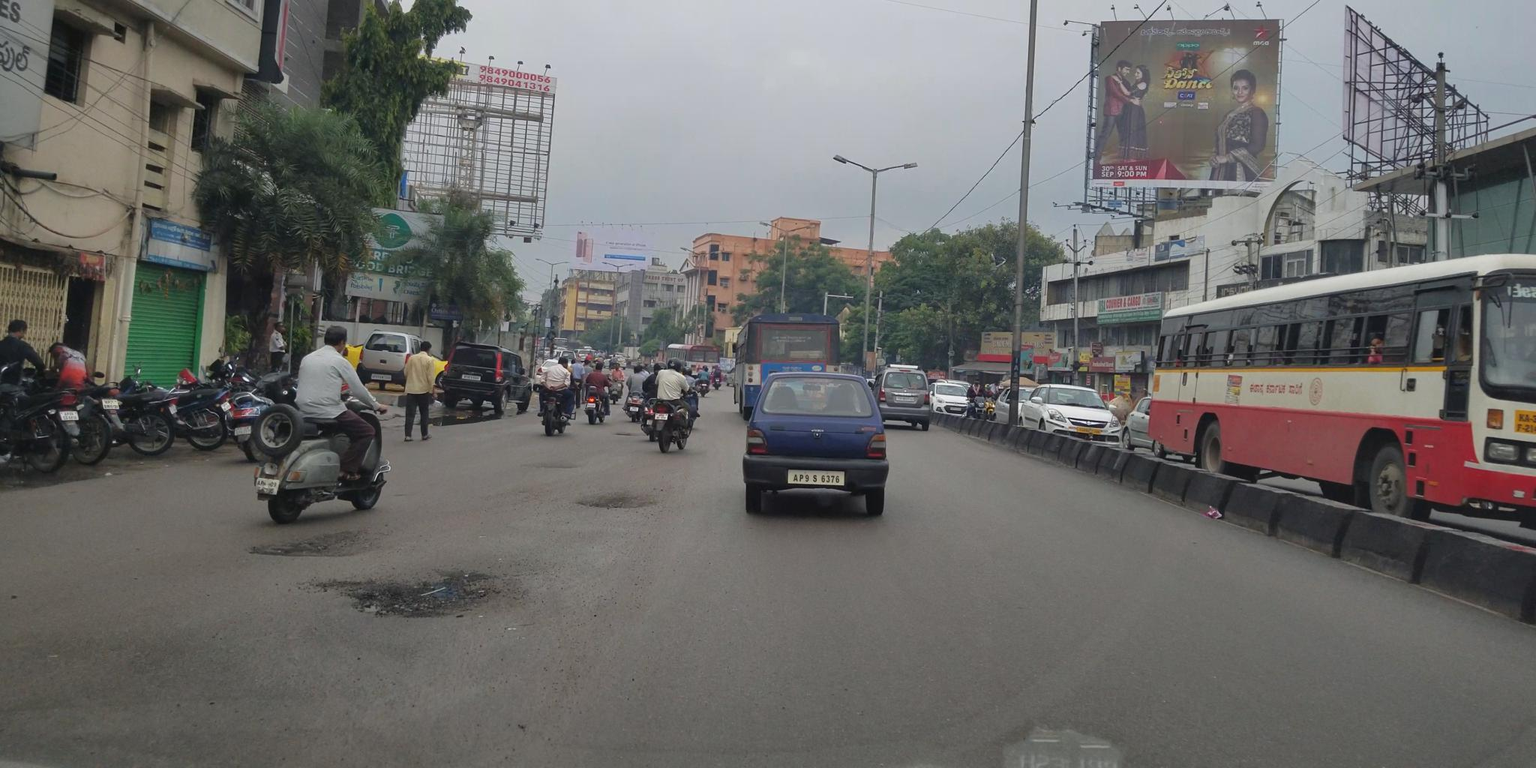streetlight: (868, 140, 938, 193), (808, 143, 868, 187)
